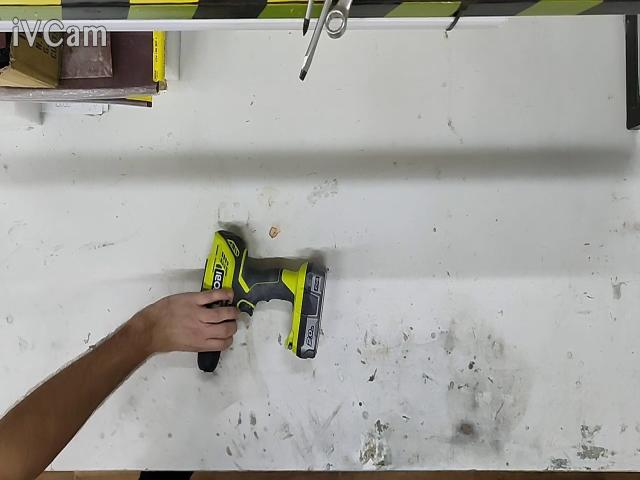Drill: (202, 230, 328, 358)
Hand: (0, 288, 239, 478)
Wrench: (325, 0, 352, 38)
